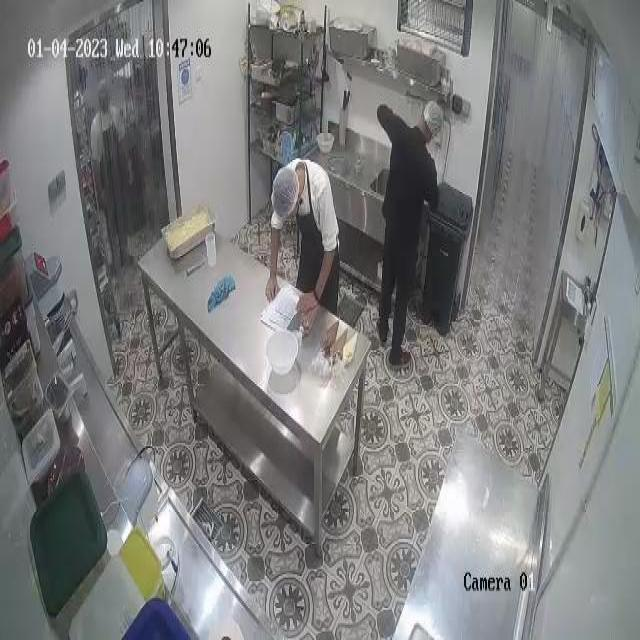hairnet: (271, 166, 295, 215), (424, 100, 444, 134), (95, 81, 110, 99)
